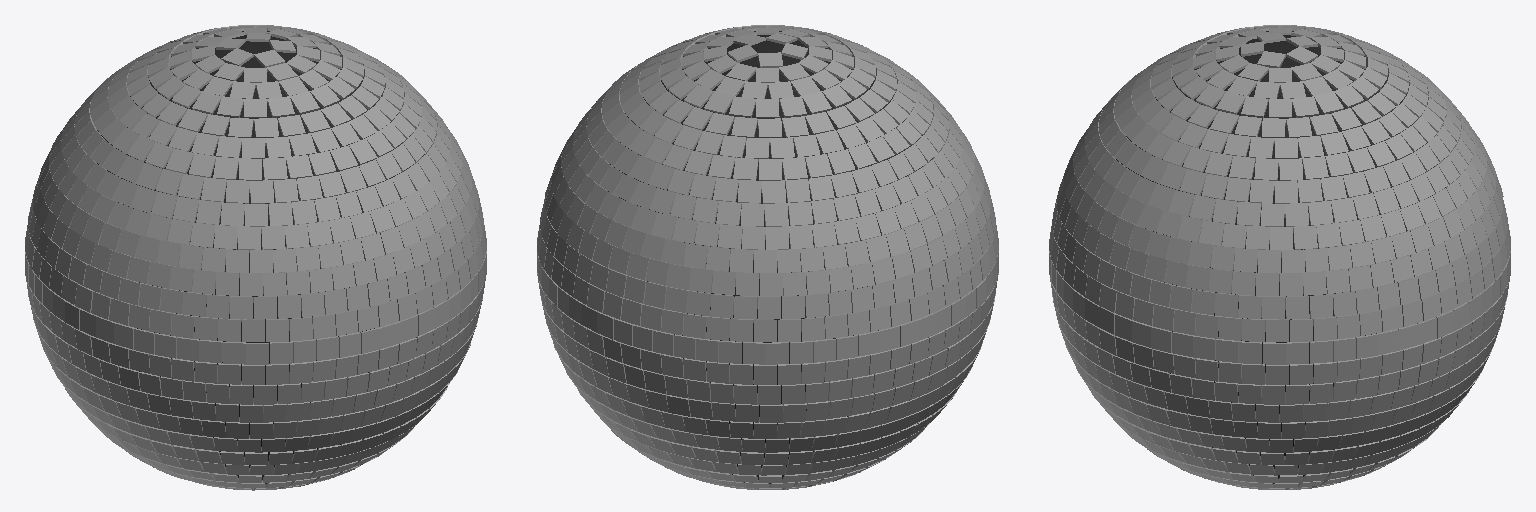
File: MirrorBall.obj
3 renders of one model, left to right at view 1: azimuth 30°, elevation 25°; view 2: azimuth 150°, elevation 25°; view 3: azimuth 270°, elevation 25°, orthographic.
Visible parts, largest first — view 1: Upper2_Upper8, Upper4_Upper8, Upper3_Upper8, Upper1_Upper8, Upper5_Upper8, Material.002_Upper8, Upper6_Upper8, Upper7_Upper8, Lower1_Upper8, Upper8, Lower2_Upper8, Upper9_Upper8 (+13 smaller); view 2: Upper2_Upper8, Upper3_Upper8, Upper4_Upper8, Upper1_Upper8, Upper5_Upper8, Upper6_Upper8, Material.002_Upper8, Upper7_Upper8, Lower1_Upper8, Upper8, Lower2_Upper8, Upper9_Upper8 (+13 smaller); view 3: Upper2_Upper8, Upper4_Upper8, Upper3_Upper8, Upper1_Upper8, Upper5_Upper8, Upper6_Upper8, Material.002_Upper8, Upper7_Upper8, Lower1_Upper8, Upper8, Lower2_Upper8, Upper9_Upper8 (+13 smaller).
Part boxes in pixels (x1,y1,x2,y2): Upper2_Upper8: (28, 190, 483, 319); Upper4_Upper8: (39, 148, 472, 272); Upper3_Upper8: (33, 175, 478, 295); Upper1_Upper8: (25, 225, 486, 341); Upper5_Upper8: (49, 125, 462, 249); Material.002_Upper8: (25, 251, 486, 364); Upper6_Upper8: (61, 104, 450, 226); Upper7_Upper8: (74, 88, 436, 203); Lower1_Upper8: (26, 279, 485, 384); Upper8: (90, 59, 421, 180); Lower2_Upper8: (28, 295, 482, 404); Upper9_Upper8: (107, 50, 403, 159); Upper2_Upper8: (540, 199, 995, 319); Upper3_Upper8: (544, 173, 990, 295); Upper4_Upper8: (552, 137, 983, 272); Upper1_Upper8: (537, 225, 998, 341); Upper5_Upper8: (561, 127, 974, 249); Upper6_Upper8: (573, 100, 962, 226); Material.002_Upper8: (537, 237, 998, 364); Upper7_Upper8: (586, 86, 948, 203); Lower1_Upper8: (537, 273, 998, 384); Upper8: (602, 64, 933, 180); Lower2_Upper8: (540, 294, 995, 404); Upper9_Upper8: (619, 50, 915, 158); Upper2_Upper8: (1052, 199, 1507, 319); Upper4_Upper8: (1063, 143, 1496, 272); Upper3_Upper8: (1057, 171, 1503, 295); Upper1_Upper8: (1049, 224, 1510, 341); Upper5_Upper8: (1073, 127, 1486, 249); Upper6_Upper8: (1085, 99, 1474, 226); Material.002_Upper8: (1049, 251, 1510, 364); Upper7_Upper8: (1098, 80, 1460, 203); Lower1_Upper8: (1049, 274, 1510, 384); Upper8: (1114, 59, 1446, 180); Lower2_Upper8: (1052, 294, 1507, 404); Upper9_Upper8: (1132, 49, 1428, 158).
Bounding box in the file's own units: 20.03 × 20.07 × 20.03.